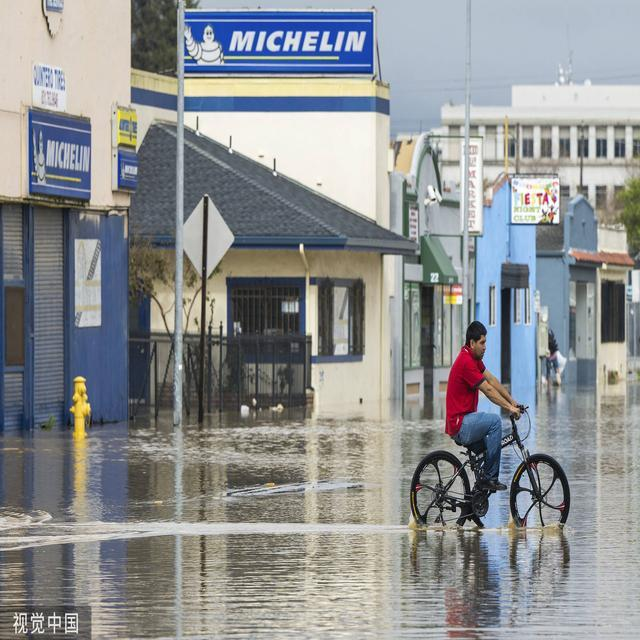Person-RiskLevel2: (434, 306, 536, 497)
